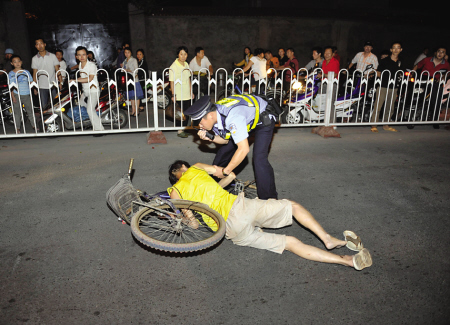10+: (1, 28, 446, 275)
down: (158, 151, 383, 275)
